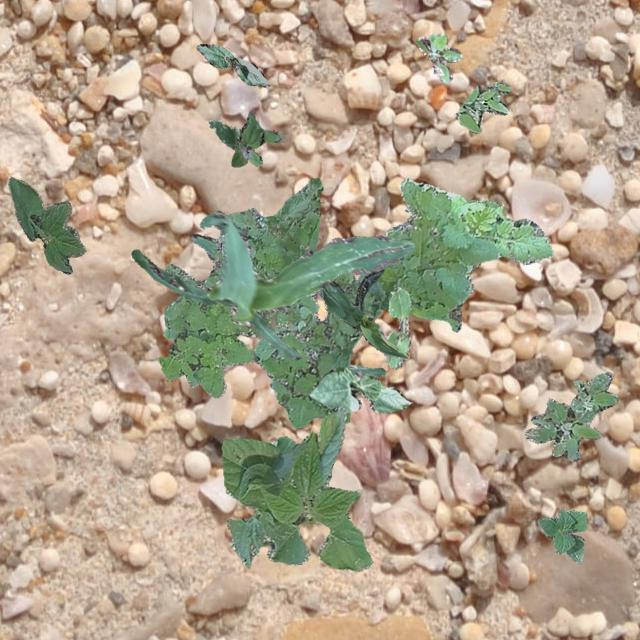crop: (130, 210, 414, 360), (190, 232, 383, 378), (220, 406, 372, 570), (322, 268, 408, 358), (7, 175, 84, 272), (308, 366, 410, 412), (195, 42, 268, 86), (536, 508, 586, 562), (384, 286, 410, 368)
weed: (252, 176, 552, 428), (156, 176, 322, 396), (524, 370, 618, 460), (208, 110, 280, 166), (456, 80, 509, 132), (413, 32, 461, 82)
